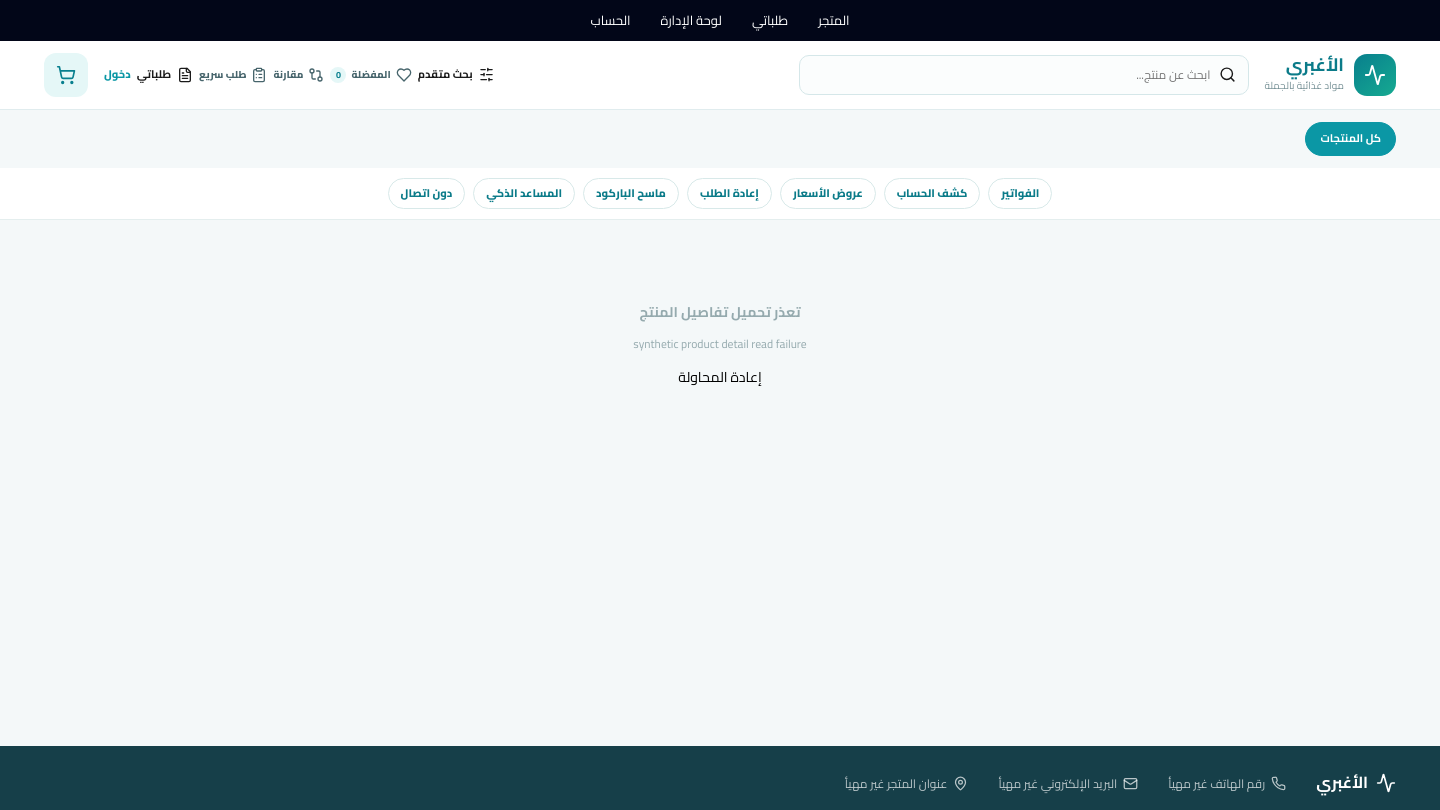
public storefront product route acceptance › fails visibly on a product detail read error and recovers through the rendered retry action
Check: the message "تعذر تحميل تفاصيل المنتج synthetic product detail read failure إعادة المحاولة" is shown, box [633,299,807,388]
Click the button "إعادة المحاولة": [720, 377] box [678,366,762,388]
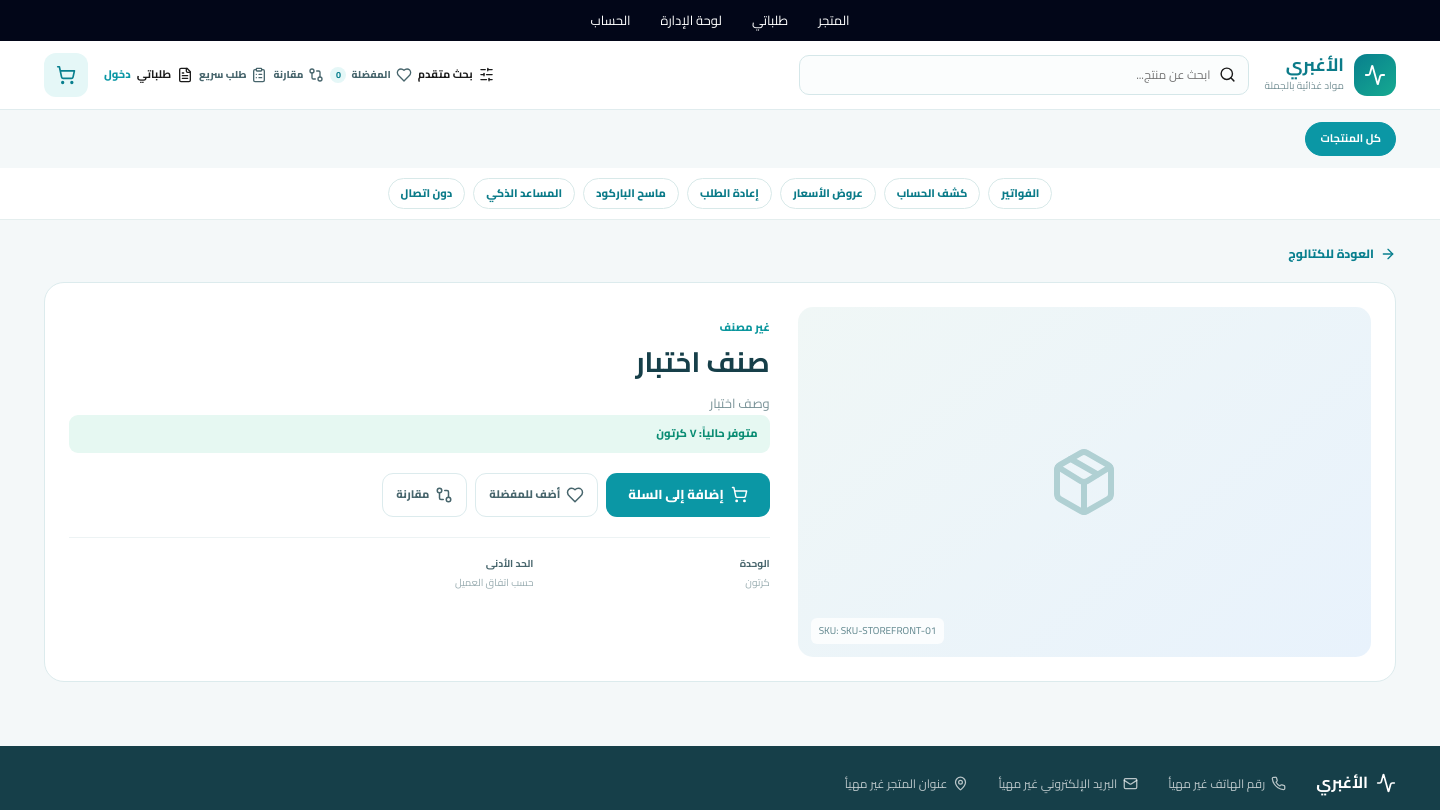
Check: the message "تعذر تحميل تفاصيل المنتج synthetic product detail read failure إعادة المحاولة" is gone
Check: the text "صنف اختبار" is shown, box [635,336,770,388]
